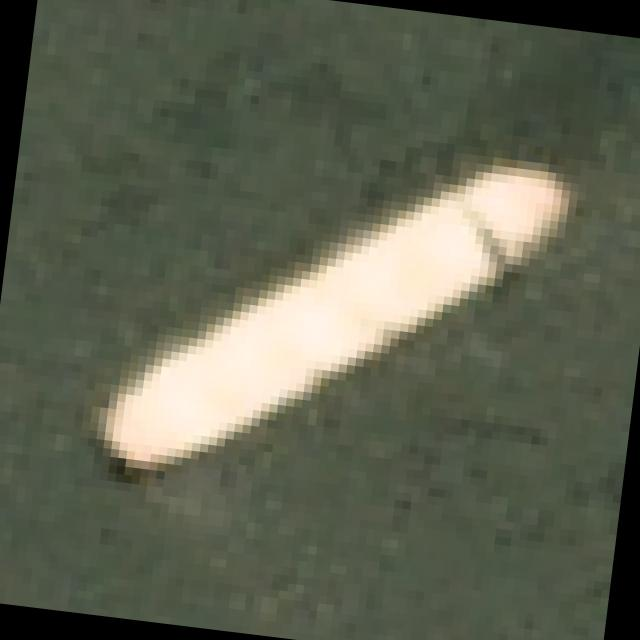ship: (54, 97, 583, 541)
